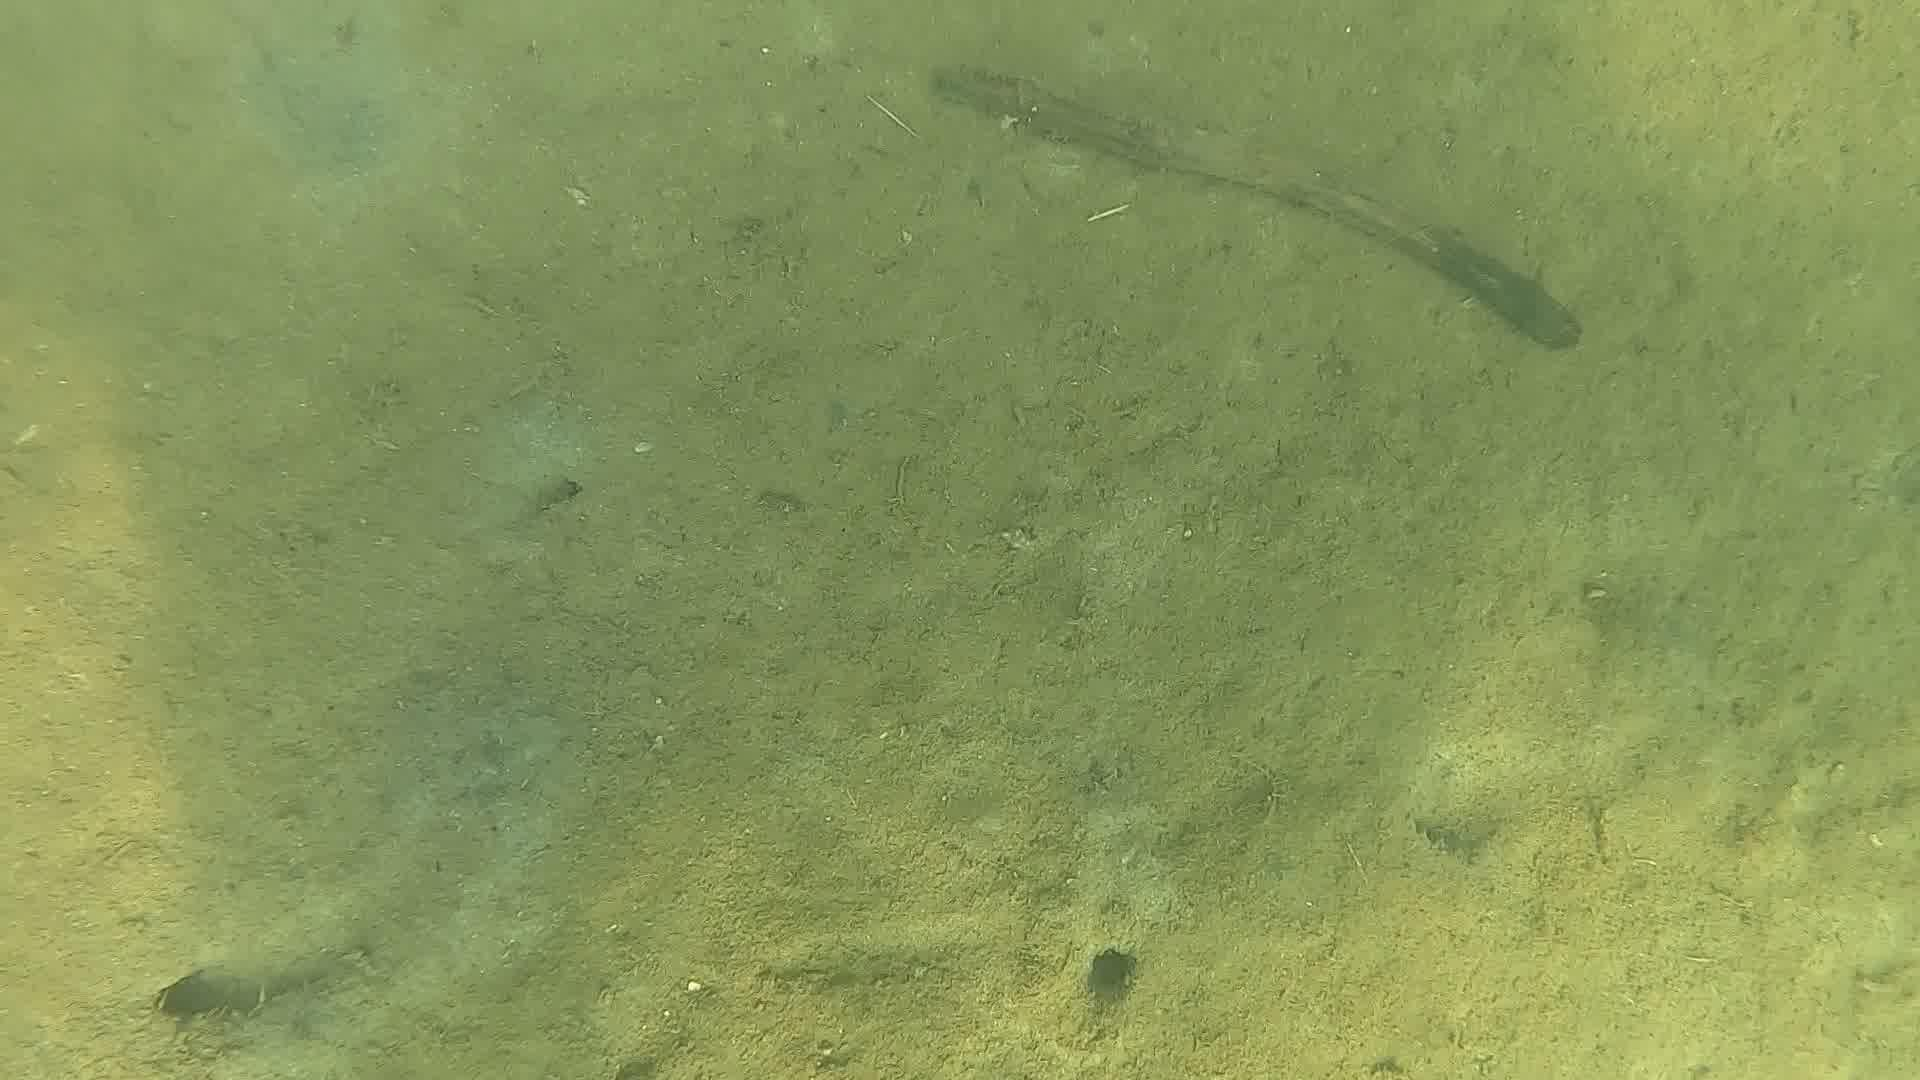wood: (926, 61, 1580, 349)
